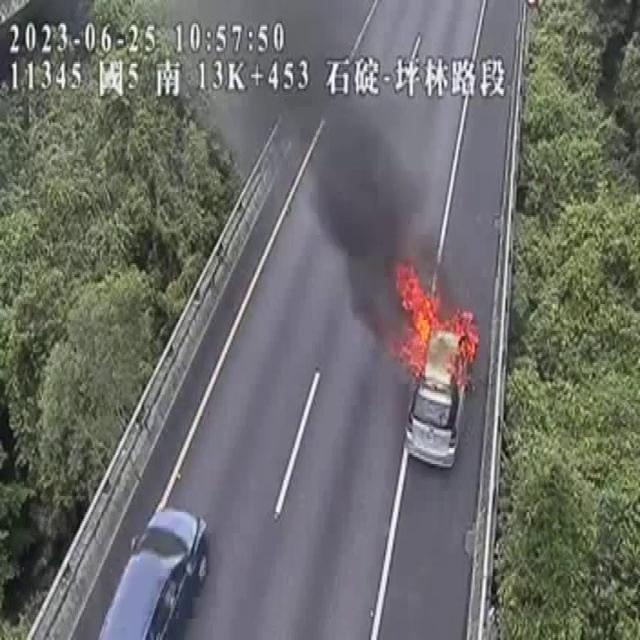Fire: (390, 262, 480, 382)
Smoke: (302, 95, 431, 298)
